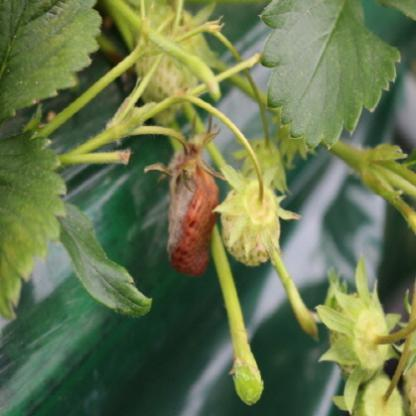Strawberry_Gray_Mold: (143, 127, 226, 276)
